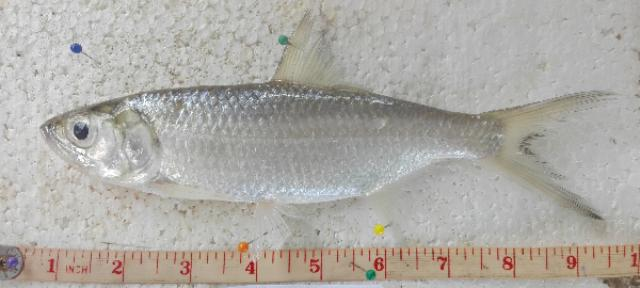Mulut: (32, 106, 82, 172)
Sirip Anal: (367, 163, 458, 247)
Sirip Dada: (142, 174, 238, 215)
Sirip Ekor: (476, 72, 620, 226)
Sirip Perut: (240, 178, 310, 254)
Sirip Punggung: (274, 8, 358, 94)
